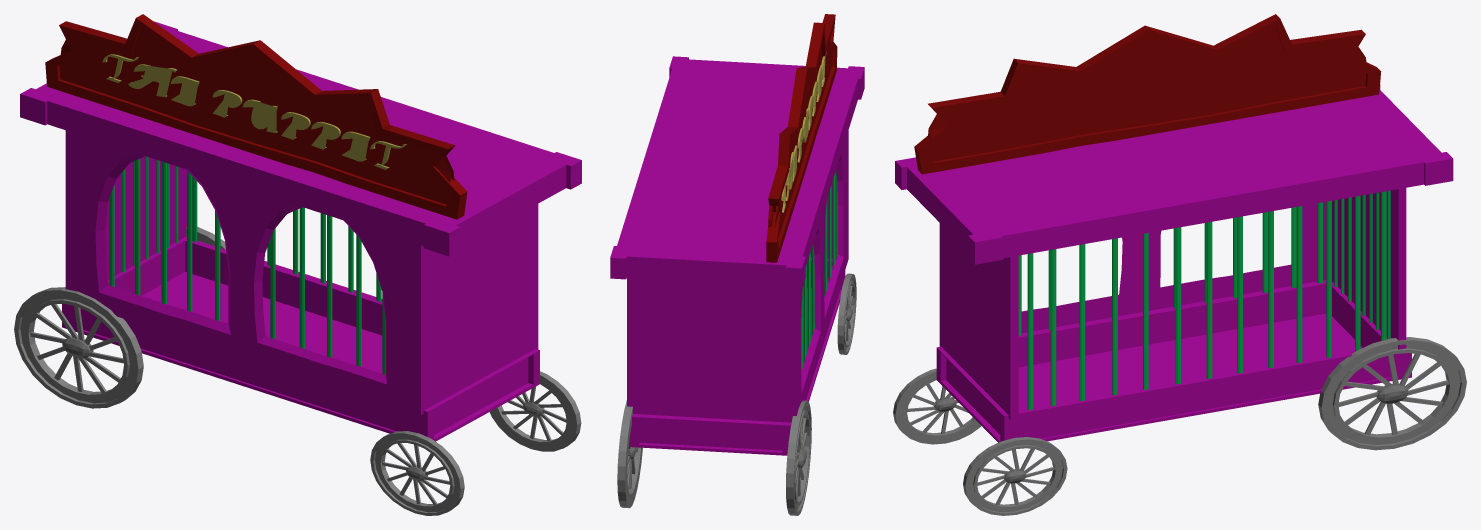
The model's file is SEC-Cage.fbx.
The picture shows the model from 3 angles, left to right: view 1: azimuth 30°, elevation 25°; view 2: azimuth 150°, elevation 25°; view 3: azimuth 270°, elevation 25°; orthographic projection. The views are drawn at different scales.
Visible parts, largest first — view 1: CAGE37; view 2: CAGE37; view 3: CAGE37.
Boxes of the visible parts, x1,y1,x2,y2 form: CAGE37: (14,14,581,515); CAGE37: (610,14,864,515); CAGE37: (893,14,1466,515).
Bounding box in the file's own units: 5.06 × 5.56 × 7.43.
